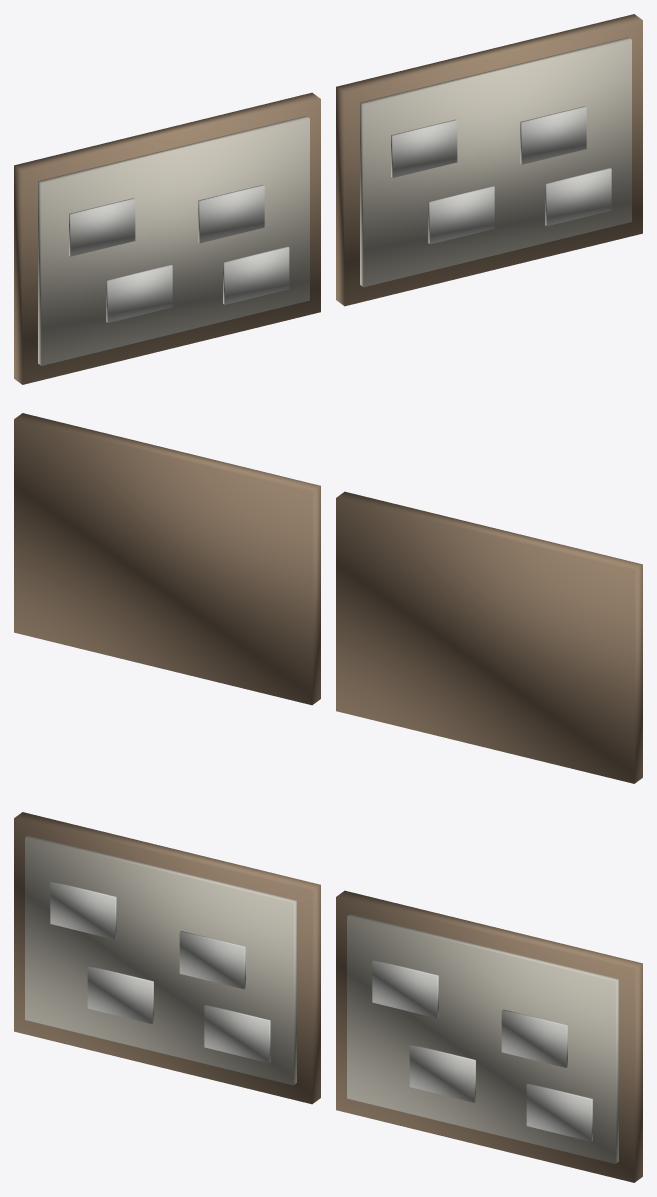
The model's file is wall_directory__cluster.glb.
3 renders of one model, top to bottom at view 1: azimuth 30°, elevation 25°; view 2: azimuth 150°, elevation 25°; view 3: azimuth 330°, elevation 25°, orthographic.
Parts seen in each view (by area): view 1: world; view 2: world; view 3: world.
Boxes of the visible parts, x1,y1,x2,y2 form: world: (14,14,642,384); world: (14,413,642,783); world: (14,812,642,1182).
Size of the model in its own units: 2.5 by 0.82 by 0.101.
